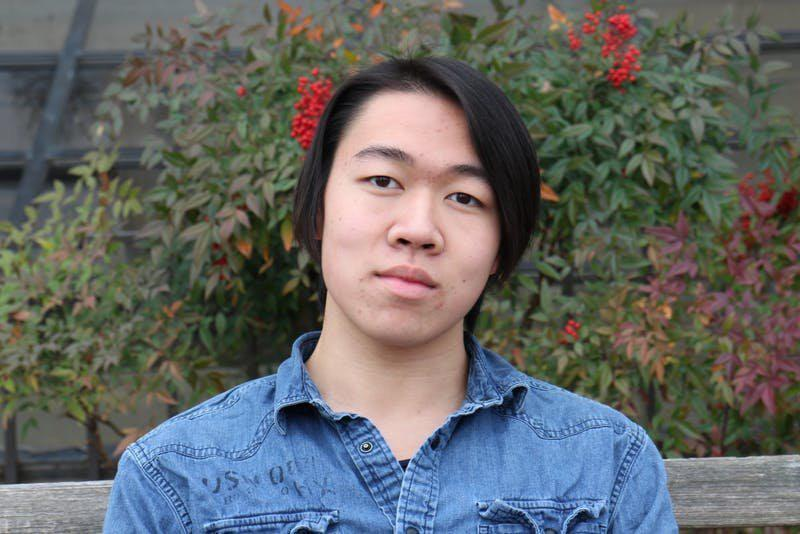Sober: (336, 105, 489, 335)
